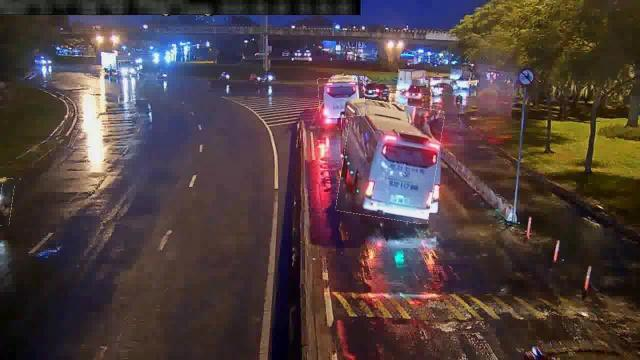Bike: (0, 178, 14, 226)
Bus: (340, 100, 440, 222), (319, 76, 365, 118)
Car: (430, 78, 454, 94)
